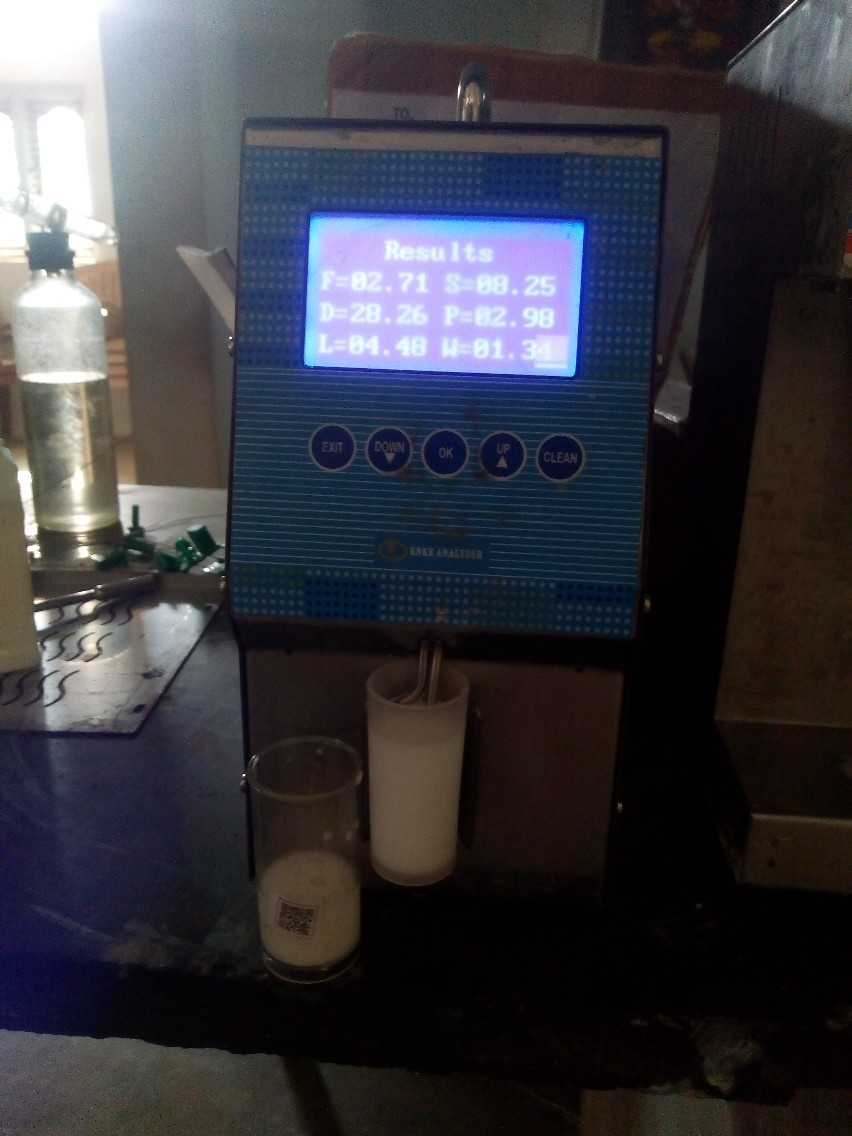lcd: (298, 206, 585, 383)
qr: (269, 895, 317, 944)
